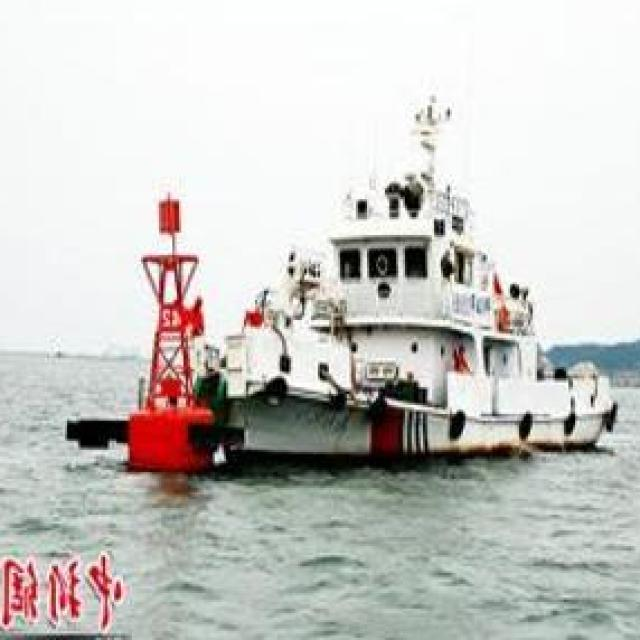houseboat: (218, 148, 622, 460)
